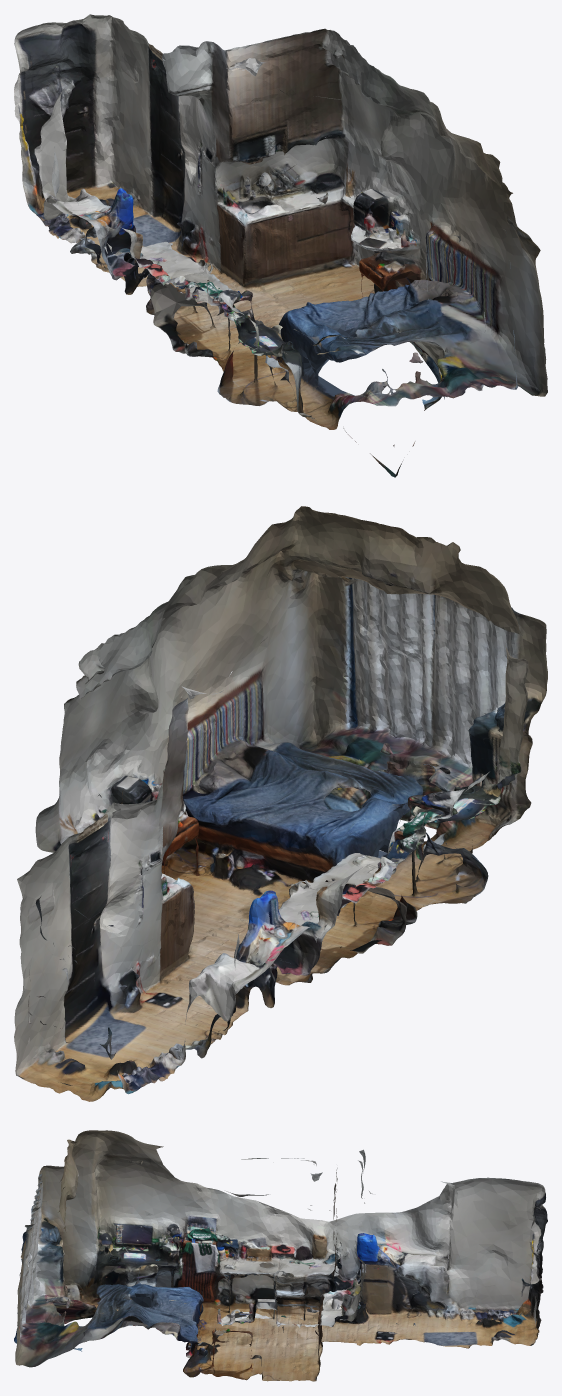
The picture shows the model from 3 angles, top to bottom: view 1: azimuth 30°, elevation 25°; view 2: azimuth 150°, elevation 25°; view 3: azimuth 270°, elevation 25°; orthographic projection. The views are drawn at different scales.
Bounding box in the file's own units: 2.43 × 2.54 × 5.86.
1 material, 1 textured.
